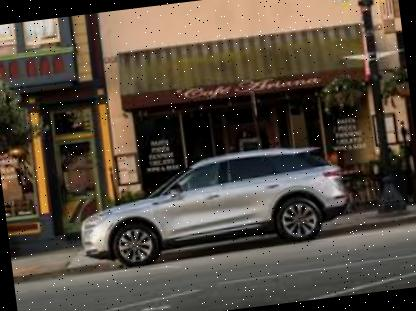car: (67, 131, 356, 274)
